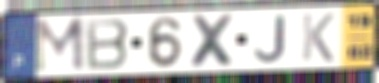6: (146, 14, 187, 70)
B: (84, 17, 132, 72)
J: (252, 14, 288, 65)
K: (299, 12, 337, 64)
M: (33, 15, 88, 76)
X: (188, 13, 240, 70)
